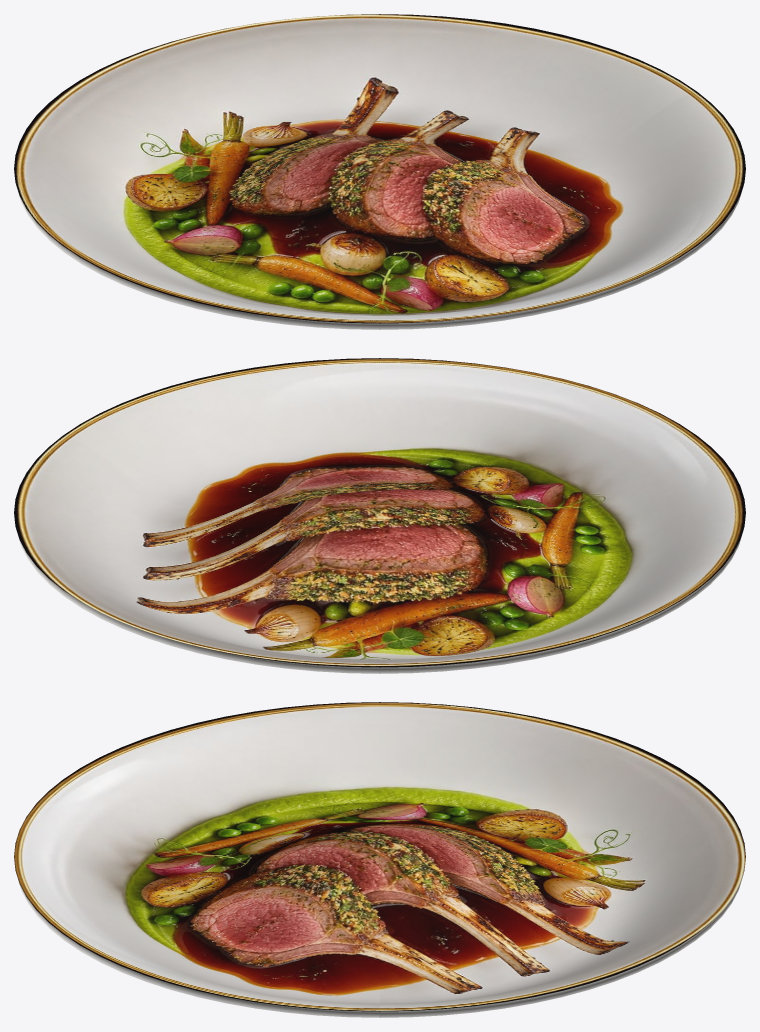
The model's file is cordeiro.glb.
3 views of the same model, one above another, from view 1: azimuth 30°, elevation 25°; view 2: azimuth 150°, elevation 25°; view 3: azimuth 270°, elevation 25° (orthographic).
Parts seen in each view (by area): view 1: dish; view 2: dish; view 3: dish.
Part boxes in pixels (box(x1,y1,x2,y2)): dish: box(14, 14, 745, 329); dish: box(14, 358, 745, 673); dish: box(14, 702, 745, 1017).
Bounding box in the file's own units: 0.28 × 0.0275 × 0.28.
Materials: 2 (1 with a texture image).
